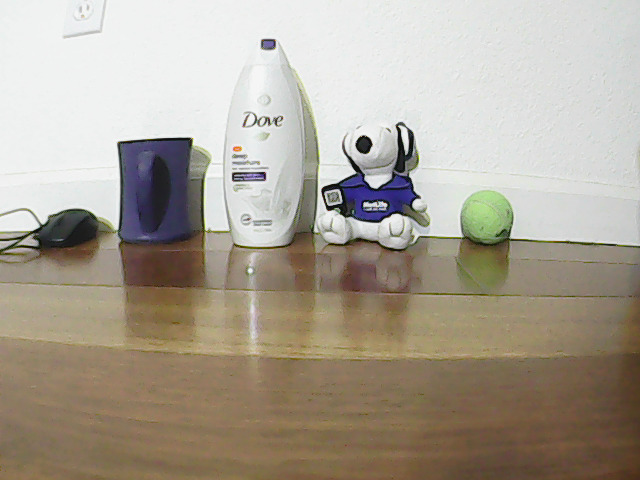ball: (448, 175, 529, 251)
mouse: (35, 193, 99, 248)
mug: (116, 121, 202, 248)
snoopy: (326, 117, 427, 258)
soap: (226, 27, 305, 248)
